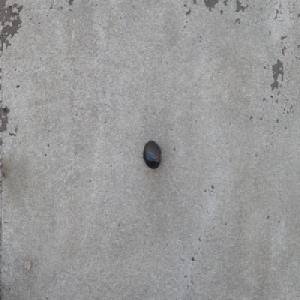FuelCap: (142, 139, 161, 169)
